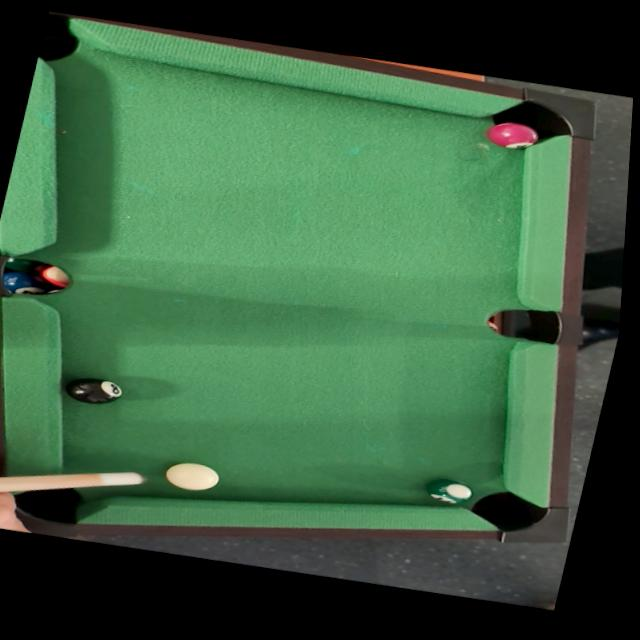cue ball: (160, 456, 225, 497)
other: (407, 470, 487, 513), (477, 113, 551, 155), (58, 368, 132, 409)
